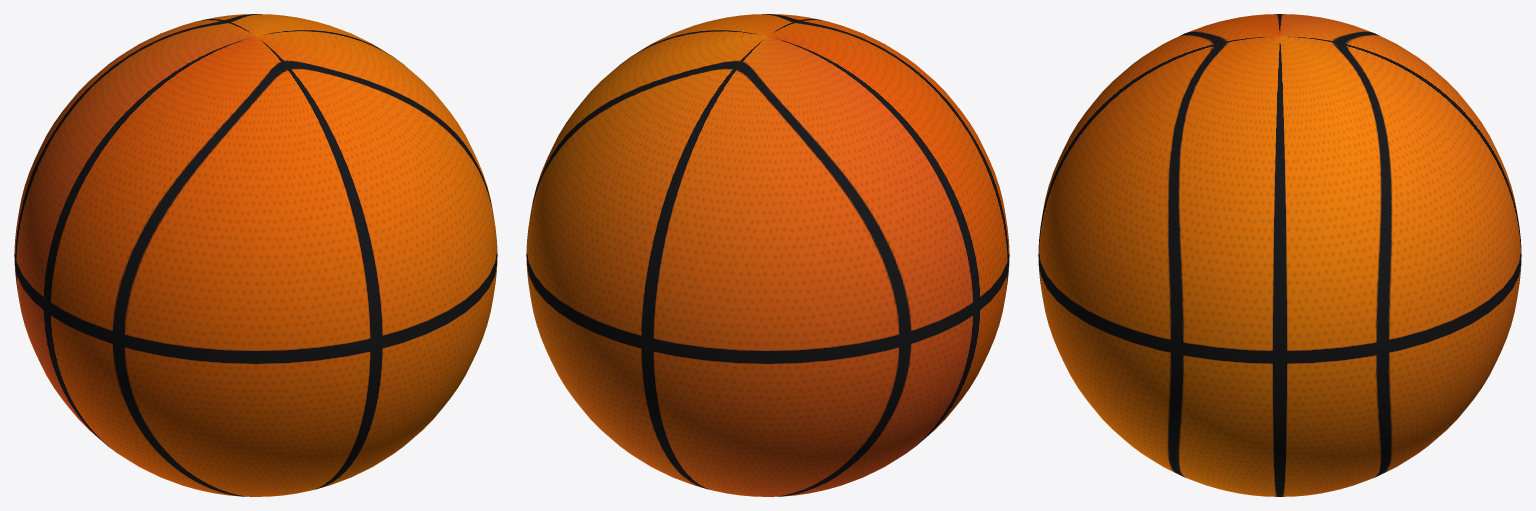
Rendered from basketball.glb.
The picture shows the model from 3 angles, left to right: view 1: azimuth 30°, elevation 25°; view 2: azimuth 150°, elevation 25°; view 3: azimuth 270°, elevation 25°; orthographic projection.
Bounding box in the file's own units: 2.2 × 2.2 × 2.2.
1 material, 1 textured.
